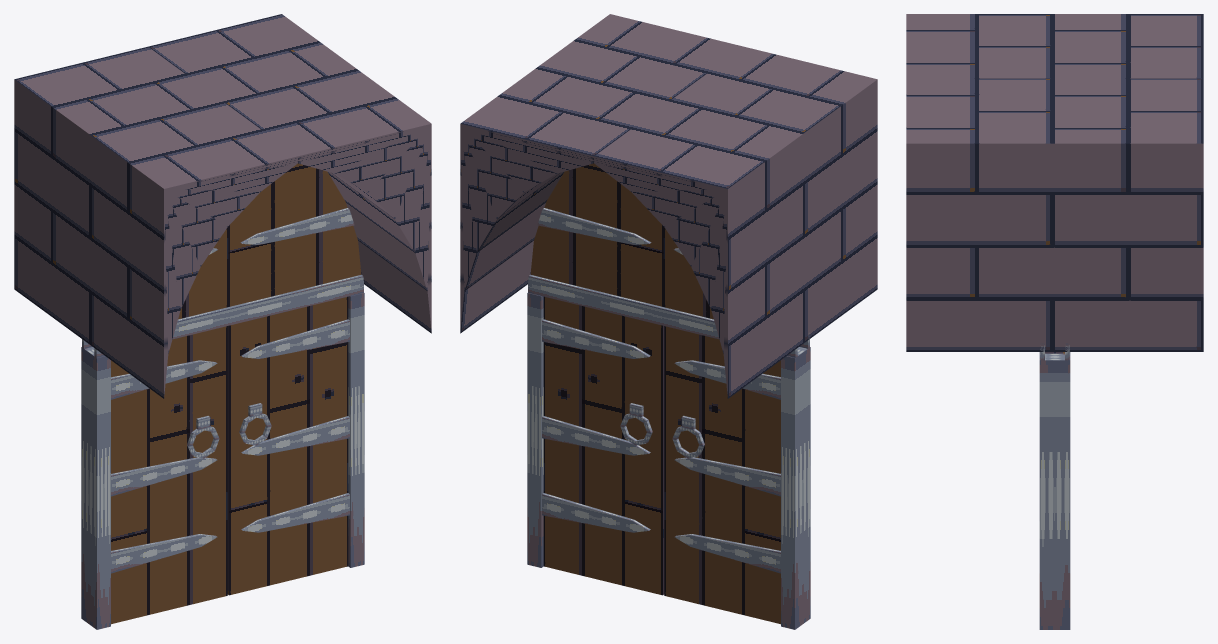
The model's file is door_normal.glb.
The picture shows the model from 3 angles, left to right: view 1: azimuth 30°, elevation 25°; view 2: azimuth 150°, elevation 25°; view 3: azimuth 270°, elevation 25°; orthographic projection.
Parts seen in each view (by area): view 1: portal, leaf_a, leaf_b; view 2: portal, leaf_a, leaf_b; view 3: portal.
Part boxes in pixels (<box>): portal: <box>14,14,431,629</box>; leaf_a: <box>227,296,349,595</box>; leaf_b: <box>111,326,227,624</box>; portal: <box>460,14,877,629</box>; leaf_a: <box>542,296,664,595</box>; leaf_b: <box>664,326,780,624</box>; portal: <box>906,14,1203,629</box>.
Size of the model in its own units: 2 by 3.5 by 1.94.
Materials: 1 (1 with a texture image).
